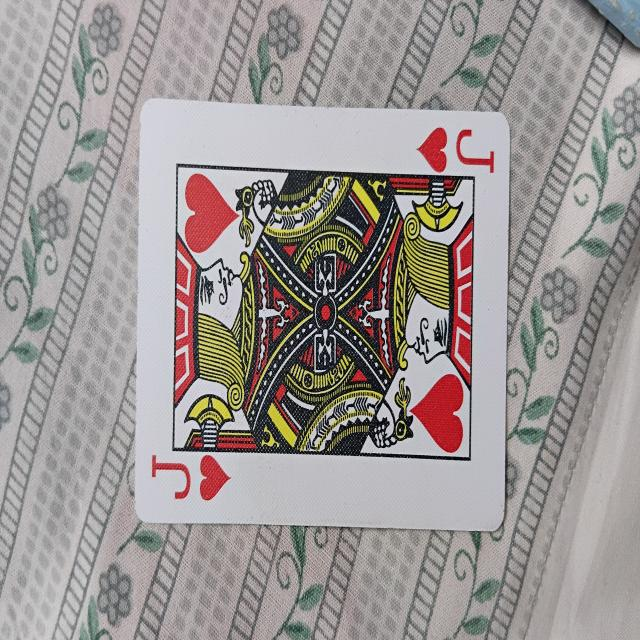JH: (142, 108, 504, 530)
